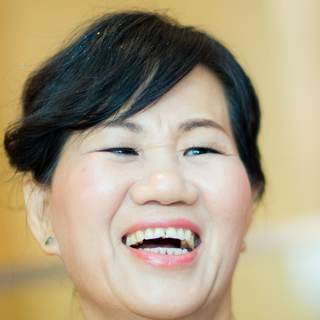eye: (95, 141, 143, 163), (179, 141, 225, 162)
